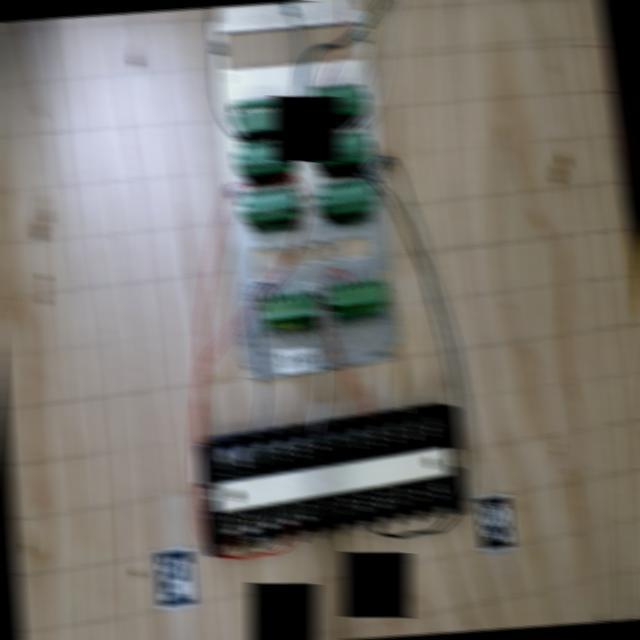Flathead_Block: (191, 409, 473, 556)
Terminal_1: (260, 289, 319, 328), (329, 277, 388, 316)
Terminal_2: (238, 138, 294, 175), (242, 186, 299, 222), (321, 177, 376, 214), (316, 130, 371, 165), (310, 82, 365, 116)
